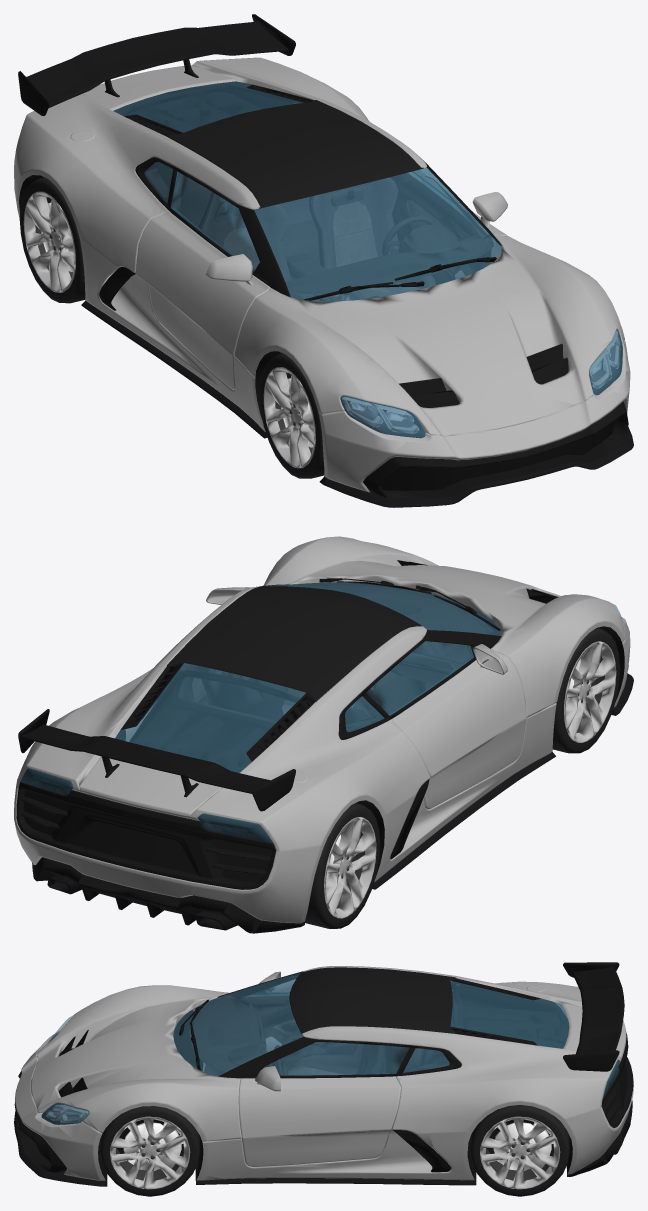
The model's file is car-transformed.glb.
3 renders of one model, top to bottom at view 1: azimuth 30°, elevation 25°; view 2: azimuth 150°, elevation 25°; view 3: azimuth 270°, elevation 25°, orthographic. The views are drawn at different scales.
Parts seen in each view (by area): view 1: Mesh_17, Mesh_17.001; view 2: Mesh_17, Mesh_17.001; view 3: Mesh_17, Mesh_17.001.
Boxes of the visible parts, x1,y1,x2,y2 form: Mesh_17: (14, 14, 633, 507); Mesh_17.001: (114, 81, 622, 438); Mesh_17: (14, 536, 633, 933); Mesh_17.001: (20, 582, 622, 843); Mesh_17: (14, 962, 633, 1196); Mesh_17.001: (41, 972, 620, 1124).
Bounding box in the file's own units: 2 × 1.23 × 4.59.
Materials: 7 (7 with a texture image).
